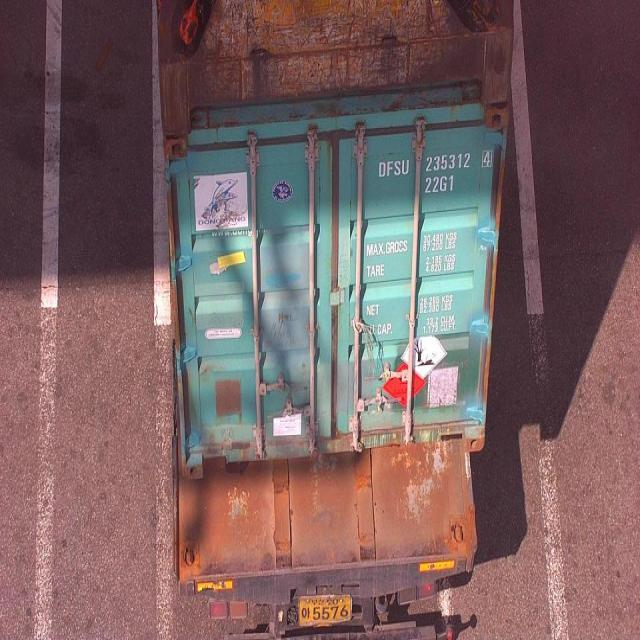ISO: (423, 174, 456, 194)
container_number: (375, 154, 494, 177)
